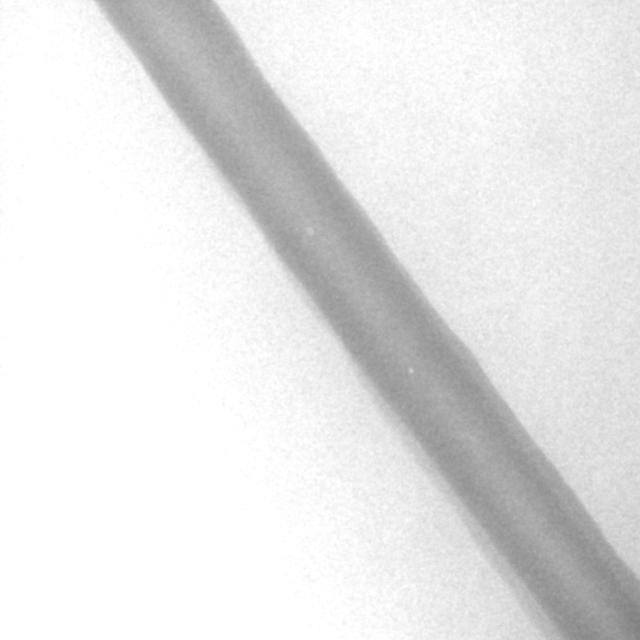air hole: (304, 223, 316, 241), (406, 364, 415, 376)
